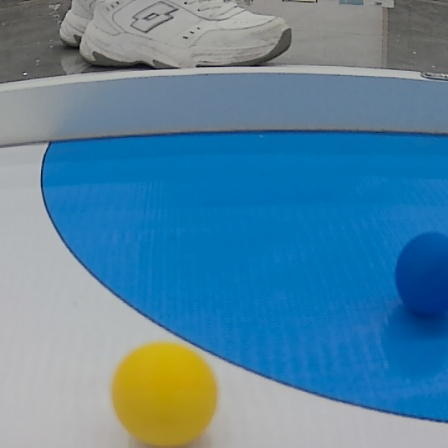blue: (391, 231, 448, 320)
blue_base: (38, 120, 448, 425)
yellow: (111, 336, 221, 448)
